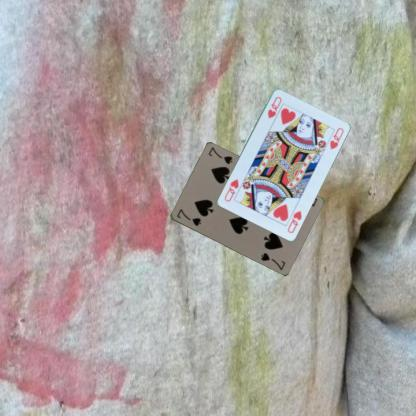7s: (174, 206, 202, 227)
Qh: (265, 93, 283, 119), (285, 208, 303, 234)
